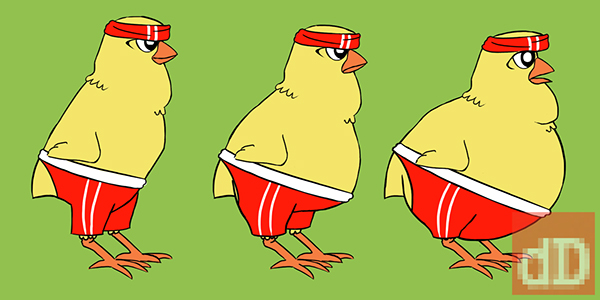bird: (380, 13, 570, 291), (206, 15, 376, 293), (25, 6, 189, 286)
